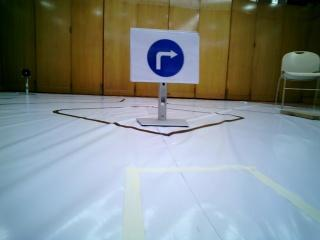right: (135, 33, 199, 80)
